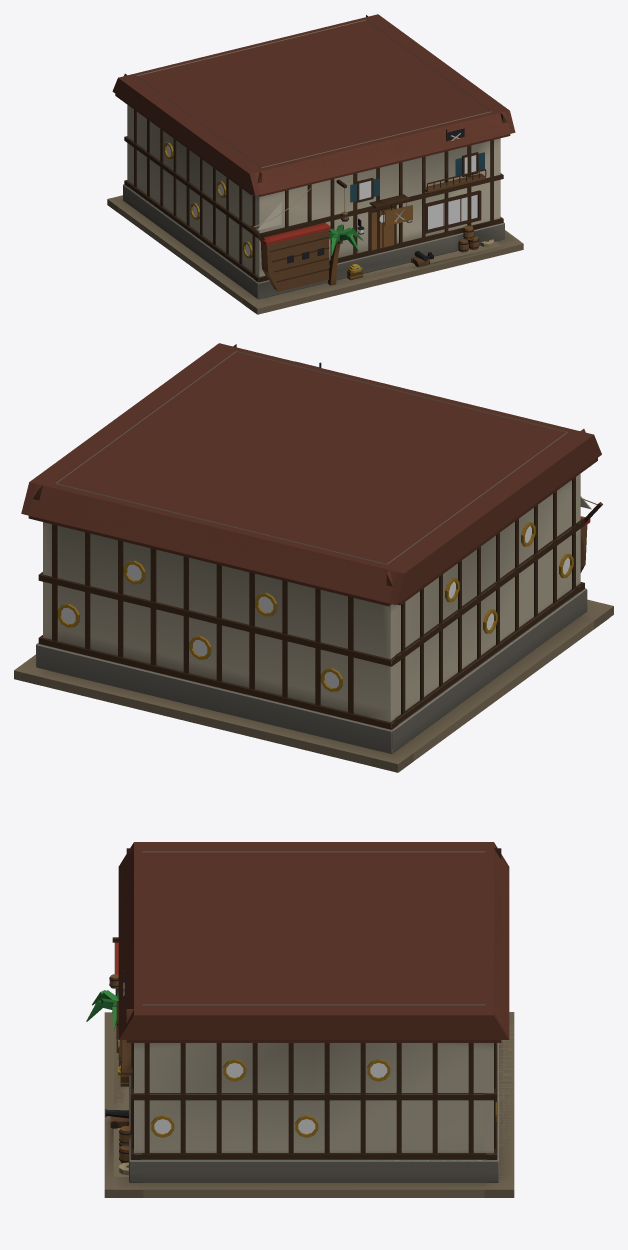
Rendered from RatMimicFloor.fbx.
3 views of the same model, one above another, from view 1: azimuth 30°, elevation 25°; view 2: azimuth 150°, elevation 25°; view 3: azimuth 270°, elevation 25° (orthographic). The views are drawn at different scales.
Visible parts, largest first — view 1: PI_S_All, PI_F_Rings, PI_F_Smooth, PI_F_Quiet, PI_F_Props, PI_F_Glass; view 2: PI_S_All, PI_F_Rings, PI_F_Smooth, PI_F_Quiet, PI_F_Glass; view 3: PI_S_All, PI_F_Rings, PI_F_Smooth, PI_F_Quiet, PI_F_Props, PI_F_Glass.
Boxes of the visible parts, box(x1,y1,x2,y2) form: PI_S_All: box(109, 14, 519, 305); PI_F_Rings: box(116, 15, 510, 280); PI_F_Smooth: box(107, 94, 523, 314); PI_F_Quiet: box(108, 184, 523, 308); PI_F_Props: box(261, 211, 494, 291); PI_F_Glass: box(166, 145, 477, 255); PI_S_All: box(15, 343, 608, 772); PI_F_Rings: box(28, 344, 596, 728); PI_F_Smooth: box(14, 361, 613, 772); PI_F_Quiet: box(14, 588, 613, 763); PI_F_Glass: box(61, 526, 569, 688); PI_S_All: box(113, 842, 514, 1197); PI_F_Rings: box(118, 846, 509, 1160); PI_F_Smooth: box(86, 937, 513, 1197); PI_F_Quiet: box(104, 1012, 513, 1189); PI_F_Props: box(98, 942, 130, 1174); PI_F_Glass: box(154, 1063, 387, 1134).
Bounding box in the file's own units: 60 × 20 × 60.
